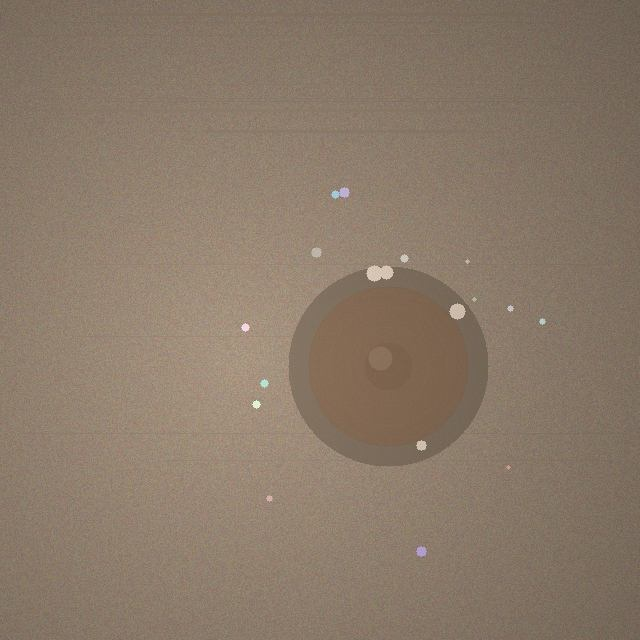overburn: (288, 266, 488, 466)
